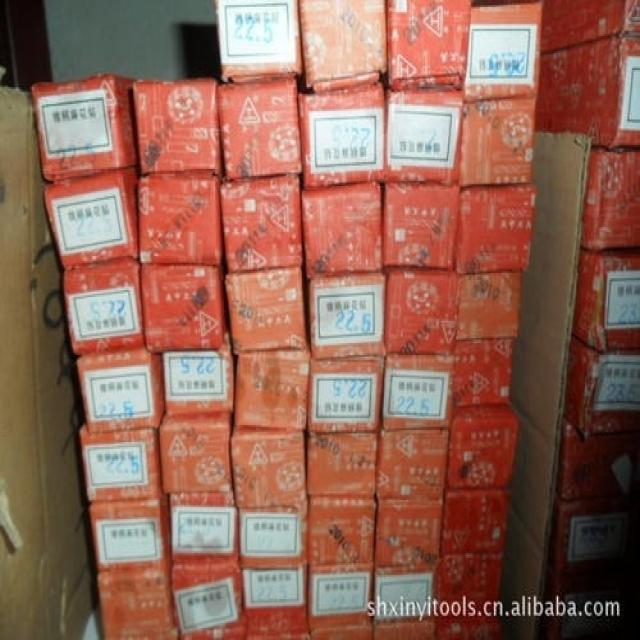box: (1, 87, 100, 638), (536, 32, 639, 148), (32, 73, 140, 180), (44, 165, 141, 270), (298, 84, 386, 189), (218, 78, 303, 180), (133, 78, 223, 173), (219, 173, 303, 273), (462, 2, 543, 102), (299, 1, 386, 92), (302, 182, 383, 279), (75, 345, 164, 433), (138, 175, 224, 266), (63, 260, 145, 354), (141, 263, 227, 352), (565, 334, 639, 436), (386, 88, 464, 184), (455, 184, 537, 275), (388, 0, 471, 89), (224, 267, 306, 355), (556, 415, 639, 501), (572, 245, 639, 351), (215, 0, 303, 80), (382, 183, 461, 269), (460, 97, 537, 184), (90, 490, 172, 570), (310, 271, 386, 357), (79, 423, 162, 501), (386, 267, 460, 354), (235, 345, 310, 430), (446, 405, 521, 490), (231, 424, 305, 508), (580, 148, 639, 251), (159, 413, 232, 493), (163, 331, 233, 414), (307, 357, 384, 432), (99, 564, 176, 638), (381, 355, 455, 431), (376, 429, 451, 502), (171, 564, 244, 637), (540, 0, 639, 52), (455, 270, 525, 340), (440, 485, 510, 555), (171, 492, 238, 564), (308, 496, 376, 566), (373, 502, 444, 567), (307, 433, 378, 496), (243, 565, 308, 632), (308, 563, 373, 630), (239, 504, 308, 567), (436, 551, 503, 615), (454, 339, 515, 405), (373, 566, 437, 621)
